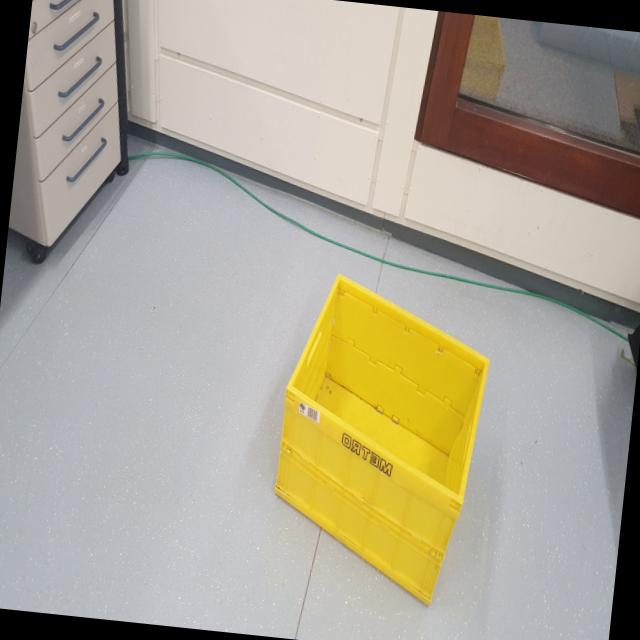box: (256, 260, 506, 615)
